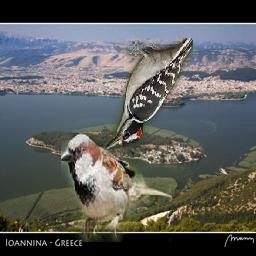Sparrow: (62, 134, 173, 243)
Woodpecker: (105, 38, 194, 150)
